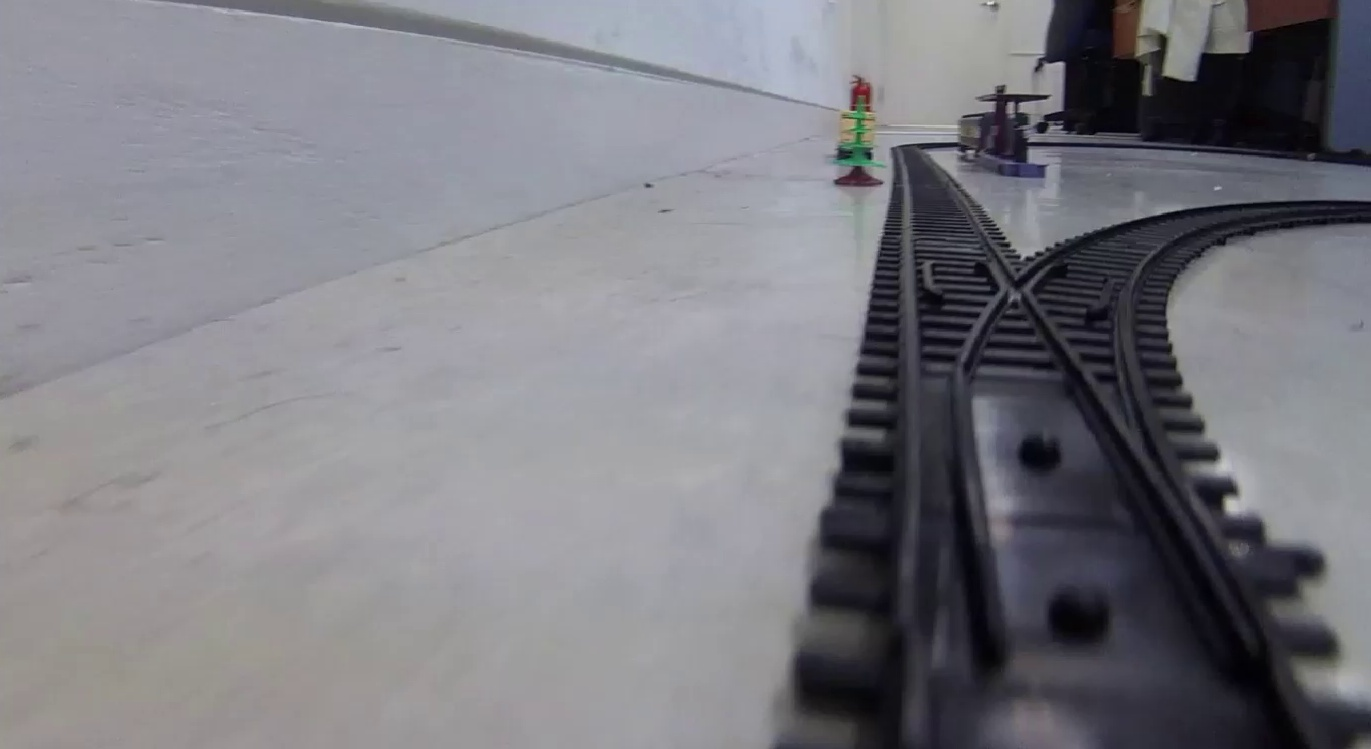tree: (839, 95, 888, 188)
